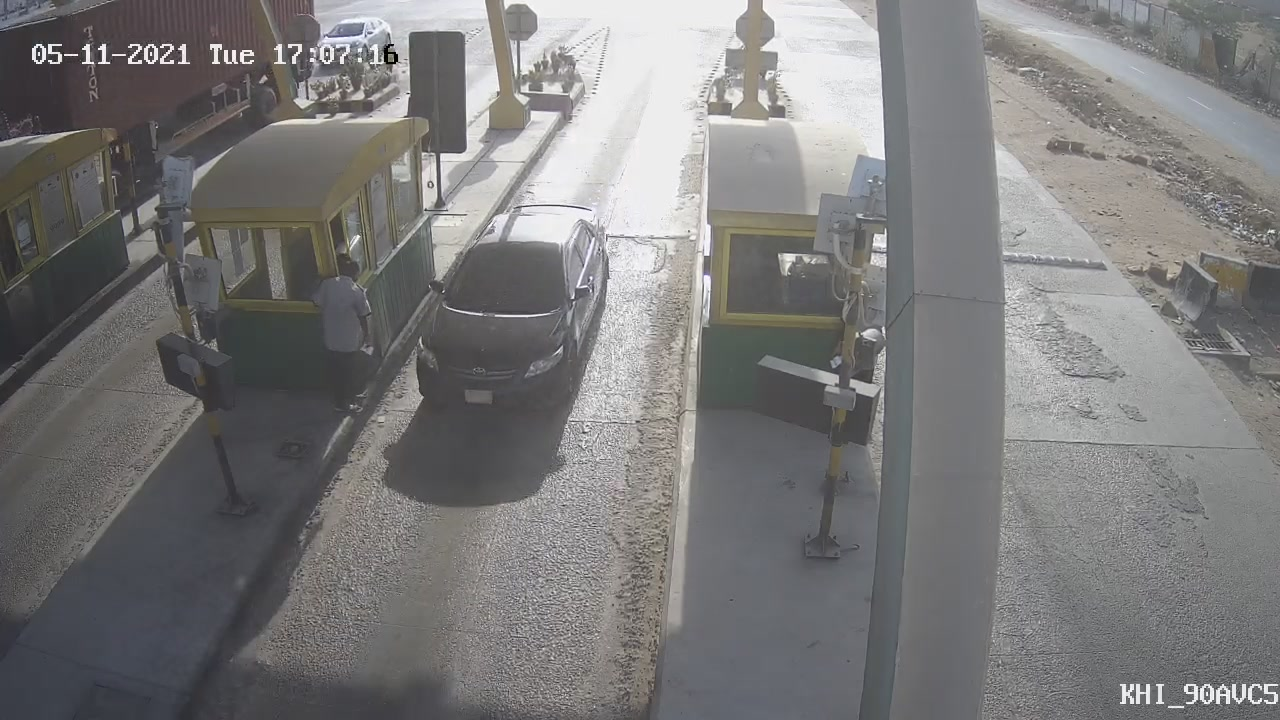F1: (394, 188, 627, 425)
